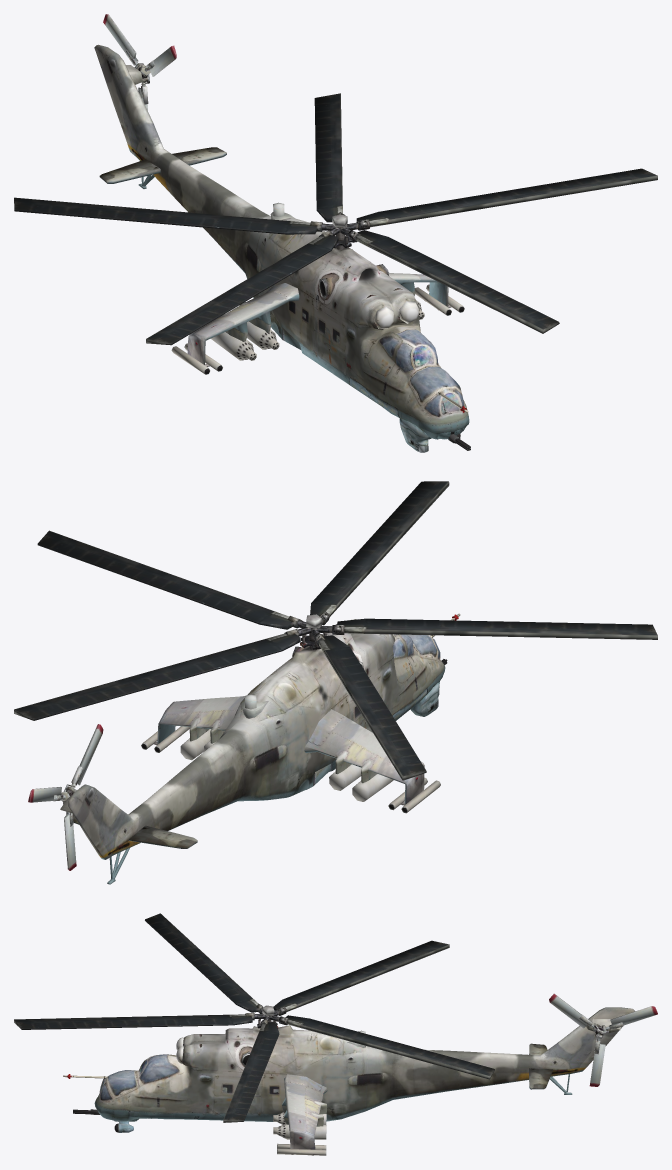
The picture shows the model from 3 angles, top to bottom: view 1: azimuth 30°, elevation 25°; view 2: azimuth 150°, elevation 25°; view 3: azimuth 270°, elevation 25°; orthographic projection. The views are drawn at different scales.
Parts seen in each view (by area): view 1: Body, Top_Rotor, Tail_Rotor; view 2: Body, Top_Rotor, Tail_Rotor; view 3: Body, Top_Rotor, Tail_Rotor.
Boxes of the visible parts, x1,y1,x2,y2 form: Body: [94, 44, 470, 452]; Top_Rotor: [14, 93, 657, 345]; Tail_Rotor: [103, 14, 176, 110]; Body: [60, 613, 460, 884]; Top_Rotor: [14, 481, 657, 780]; Tail_Rotor: [28, 724, 103, 870]; Body: [63, 1007, 635, 1155]; Top_Rotor: [14, 913, 494, 1122]; Tail_Rotor: [549, 993, 657, 1086].
Size of the model in its own units: 12.99 by 4.16 by 17.25.
1 material, 1 textured.
